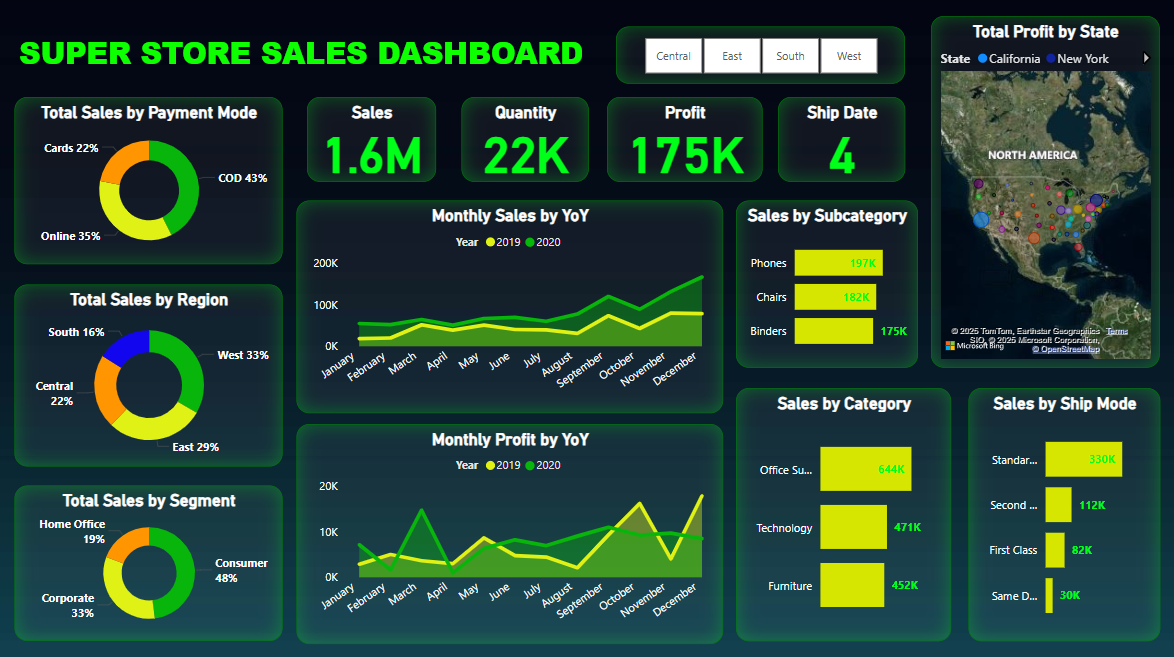

The page's visual inventory and layout, read from the dashboard file:
{"tool":"powerbi","page":{"name":"Super Store Sales Dashboard","canvas":[1280,720],"ordinal":0},"visuals":[{"type":"clusteredBarChart","title":"Sales by Category","fields":{"Category":["SuperStore_Sales_Dataset.Category"],"Y":["Sum(SuperStore_Sales_Dataset.Sales)"]},"box":[799.5,422.8,233.6,275],"z":0},{"type":"clusteredBarChart","title":"Sales by Subcategory","fields":{"Category":["SuperStore_Sales_Dataset.Sub-Category"],"Y":["Sum(SuperStore_Sales_Dataset.Sales)"]},"box":[799.5,219.3,197.1,181.2],"z":1000},{"type":"clusteredBarChart","title":"Sales by Ship Mode","fields":{"Category":["SuperStore_Sales_Dataset.Ship Mode"],"Y":["Sum(SuperStore_Sales_Dataset.Sales)"]},"box":[1052.2,422.8,208.2,275],"z":2000},{"type":"areaChart","title":"Monthly Sales by YoY","fields":{"Y":["Sum(SuperStore_Sales_Dataset.Sales)"],"Category":["SuperStore_Sales_Dataset.Order Date.Variation.Date Hierarchy.Month","SuperStore_Sales_Dataset.Order Date.Variation.Date Hierarchy.Day"],"Series":["SuperStore_Sales_Dataset.Order Date.Variation.Date Hierarchy.Year"]},"box":[324.2,219.3,462.5,230.5],"z":3000},{"type":"areaChart","title":"Monthly Profit by YoY","fields":{"Category":["SuperStore_Sales_Dataset.Order Date.Variation.Date Hierarchy.Month","SuperStore_Sales_Dataset.Order Date.Variation.Date Hierarchy.Day"],"Series":["SuperStore_Sales_Dataset.Order Date.Variation.Date Hierarchy.Year"],"Y":["Sum(SuperStore_Sales_Dataset.Profit)"]},"box":[324.2,462.5,462.5,238.4],"z":4000},{"type":"map","fields":{"Category":["SuperStore_Sales_Dataset.State"],"Series":["SuperStore_Sales_Dataset.State"],"Size":["CountNonNull(SuperStore_Sales_Dataset.State)"]},"box":[1012.5,19.1,247.9,381.5],"z":5000},{"type":"donutChart","fields":{"Category":["SuperStore_Sales_Dataset.Segment"],"Y":["Sum(SuperStore_Sales_Dataset.Sales)"]},"box":[17.5,529.3,290.9,168.5],"z":6000},{"type":"donutChart","fields":{"Category":["SuperStore_Sales_Dataset.Payment Mode"],"Y":["Sum(SuperStore_Sales_Dataset.Sales)"]},"box":[17.5,108.1,290.9,181.2],"z":7000},{"type":"slicer","fields":{"Values":["SuperStore_Sales_Dataset.Region"]},"box":[670.7,30.2,313.1,62],"z":8000},{"type":"textbox","box":[17.5,30.2,635.8,62],"z":9000},{"type":"card","title":"Quantity","fields":{"Values":["Sum(SuperStore_Sales_Dataset.Quantity)"]},"box":[502.3,108.1,138.3,92.2],"z":10000},{"type":"card","title":"Profit","fields":{"Values":["Sum(SuperStore_Sales_Dataset.Profit)"]},"box":[659.6,108.1,168.5,92.2],"z":11000},{"type":"card","title":"Ship Date","fields":{"Values":["Avg(SuperStore_Sales_Dataset.AvgDelivery)"]},"box":[845.6,108.1,138.3,92.2],"z":12000},{"type":"card","title":"Sales","fields":{"Values":["Sum(SuperStore_Sales_Dataset.Sales)"]},"box":[335.4,108.1,139.9,92.2],"z":13000},{"type":"donutChart","fields":{"Y":["Sum(SuperStore_Sales_Dataset.Sales)"],"Category":["SuperStore_Sales_Dataset.Region"]},"box":[17.5,309.9,290.9,197.1],"z":13001}]}

Visuals, with their boxes in screenshot pixels (x1, y1, x2, y2), scaled from the page's 1280x720 canvas onto the 1174x657 screenshot:
"Sales by Category" clusteredBarChart: detection(733, 386, 948, 637)
"Sales by Subcategory" clusteredBarChart: detection(733, 200, 914, 365)
"Sales by Ship Mode" clusteredBarChart: detection(965, 386, 1156, 637)
"Monthly Sales by YoY" areaChart: detection(297, 200, 722, 410)
"Monthly Profit by YoY" areaChart: detection(297, 422, 722, 640)
map - SuperStore_Sales_Dataset.State x SuperStore_Sales_Dataset.State: detection(929, 17, 1156, 366)
donutChart - SuperStore_Sales_Dataset.Segment x Sum(SuperStore_Sales_Dataset.Sales): detection(16, 483, 283, 637)
donutChart - SuperStore_Sales_Dataset.Payment Mode x Sum(SuperStore_Sales_Dataset.Sales): detection(16, 99, 283, 264)
slicer - SuperStore_Sales_Dataset.Region: detection(615, 28, 902, 84)
textbox: detection(16, 28, 599, 84)
"Quantity" card: detection(461, 99, 588, 183)
"Profit" card: detection(605, 99, 760, 183)
"Ship Date" card: detection(776, 99, 902, 183)
"Sales" card: detection(308, 99, 436, 183)
donutChart - Sum(SuperStore_Sales_Dataset.Sales) x SuperStore_Sales_Dataset.Region: detection(16, 283, 283, 463)
